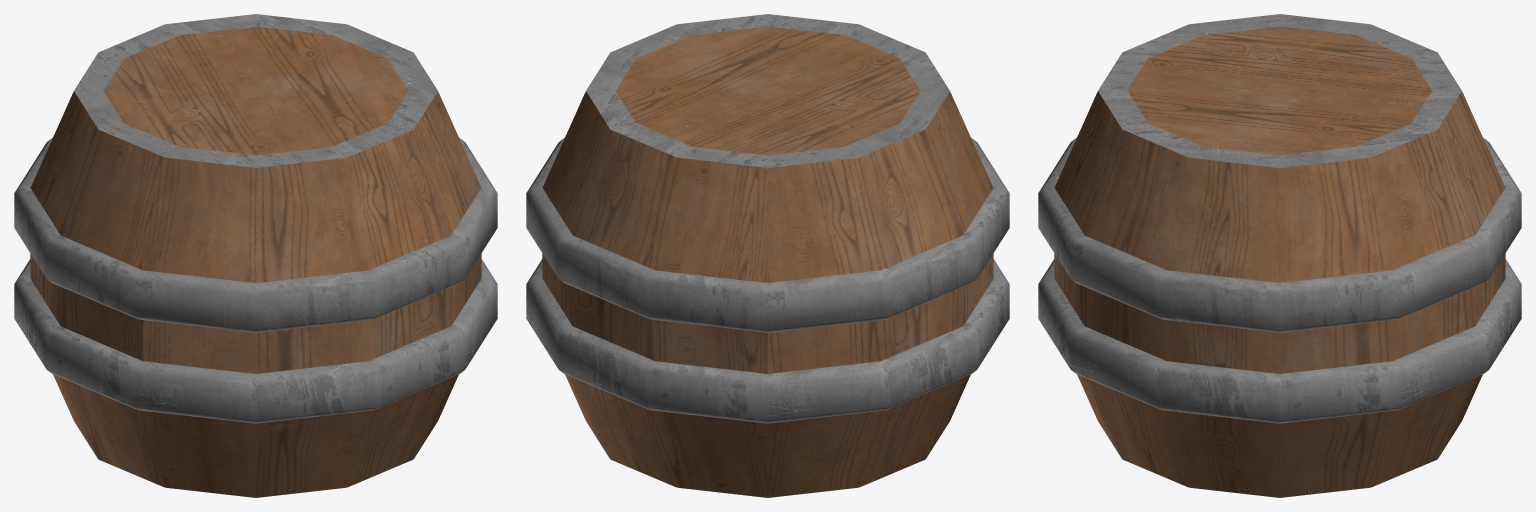
The model's file is barril1.glb.
The picture shows the model from 3 angles, left to right: view 1: azimuth 30°, elevation 25°; view 2: azimuth 150°, elevation 25°; view 3: azimuth 270°, elevation 25°; orthographic projection.
Visible parts, largest first — view 1: Cylinder, Cylinder.001; view 2: Cylinder, Cylinder.001; view 3: Cylinder, Cylinder.001.
Boxes of the visible parts, x1,y1,x2,y2 form: Cylinder: (30, 14, 481, 497); Cylinder.001: (14, 138, 497, 423); Cylinder: (542, 14, 993, 497); Cylinder.001: (526, 138, 1009, 423); Cylinder: (1054, 14, 1505, 497); Cylinder.001: (1038, 138, 1521, 423).
Size of the model in its own units: 2.14 by 1.61 by 2.14.
Materials: 1 (1 with a texture image).
